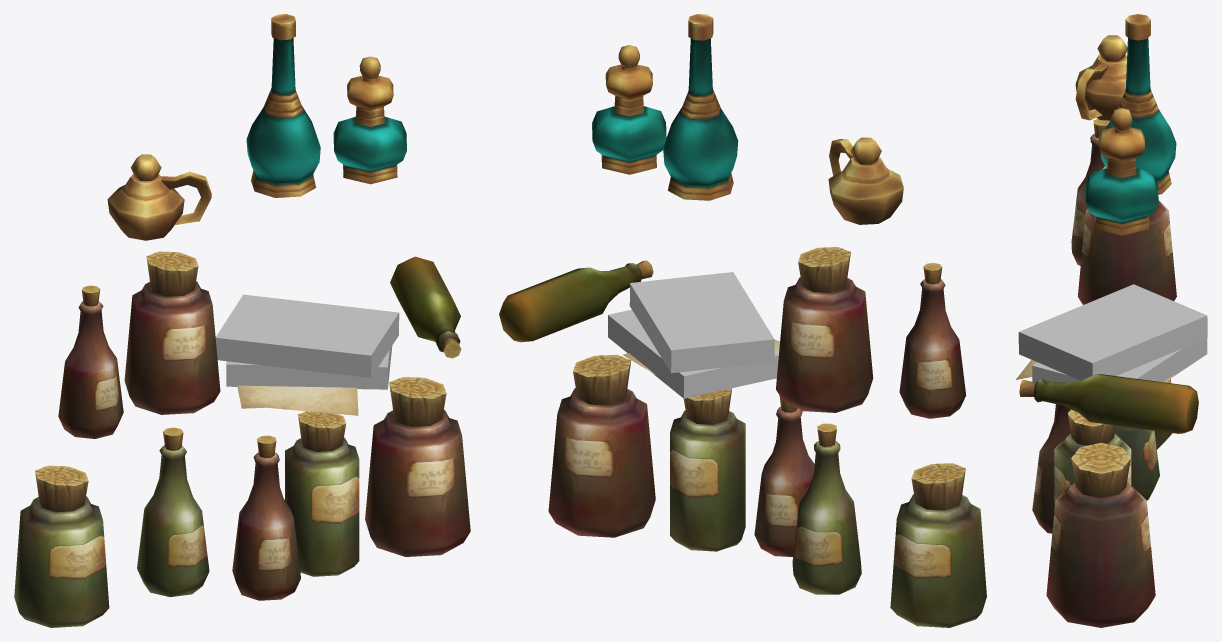
Rendered from Shelf_Preset_02.FBX.
The picture shows the model from 3 angles, left to right: view 1: azimuth 30°, elevation 25°; view 2: azimuth 150°, elevation 25°; view 3: azimuth 270°, elevation 25°; orthographic projection.
Visible parts, largest first — view 1: Shelf_Preset_02; view 2: Shelf_Preset_02; view 3: Shelf_Preset_02.
Boxes of the visible parts, bbox=[...] form: Shelf_Preset_02: bbox=[14, 14, 470, 627]; Shelf_Preset_02: bbox=[499, 14, 986, 627]; Shelf_Preset_02: bbox=[1016, 14, 1207, 627].
Bounding box in the file's own units: 103 × 38.56 × 118.
